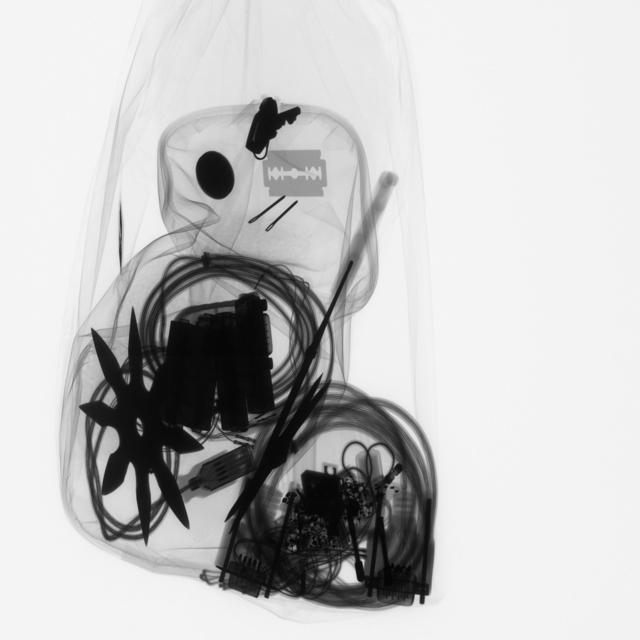razor: (259, 147, 335, 205)
shuriken: (77, 323, 202, 548), (224, 371, 334, 525)
